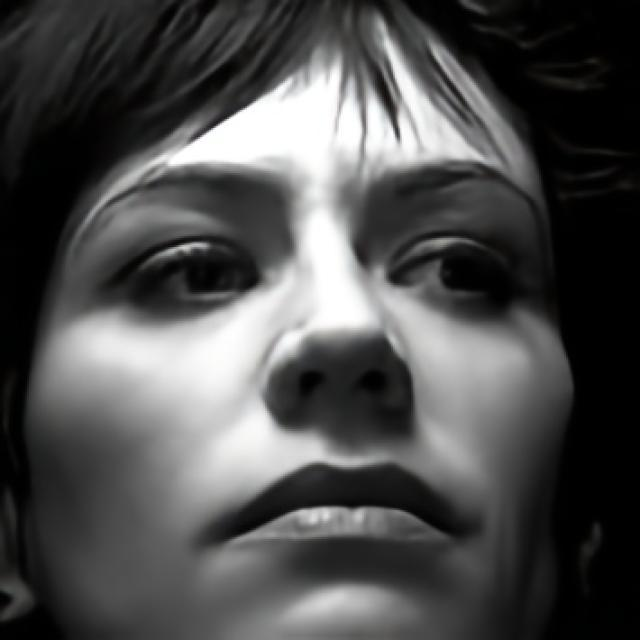neutral: (21, 0, 580, 640)
